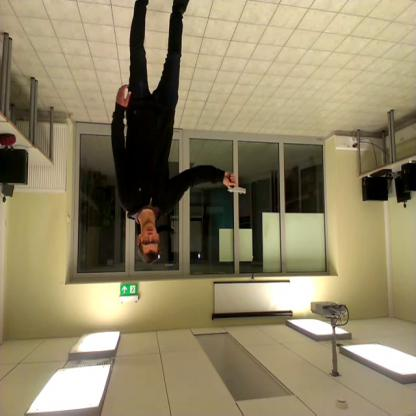Pistol: (222, 170, 250, 199)
